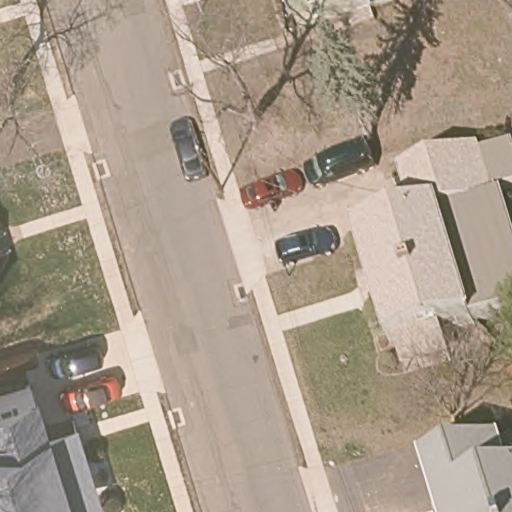DT: (188, 121, 226, 199)
